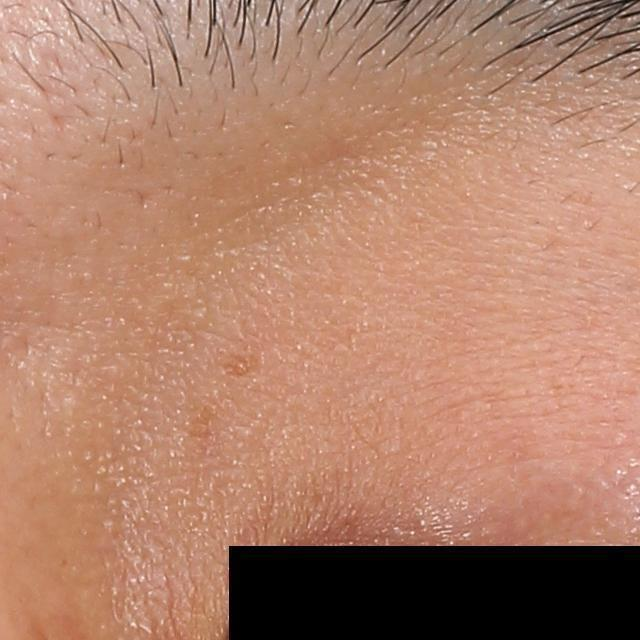melasma: (220, 349, 261, 377)
